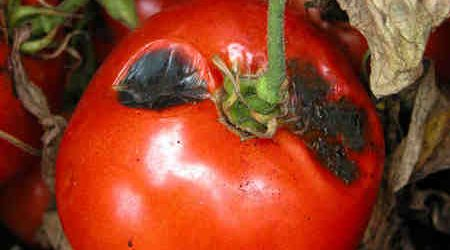anthracnose: (275, 47, 374, 189), (113, 38, 222, 135)
